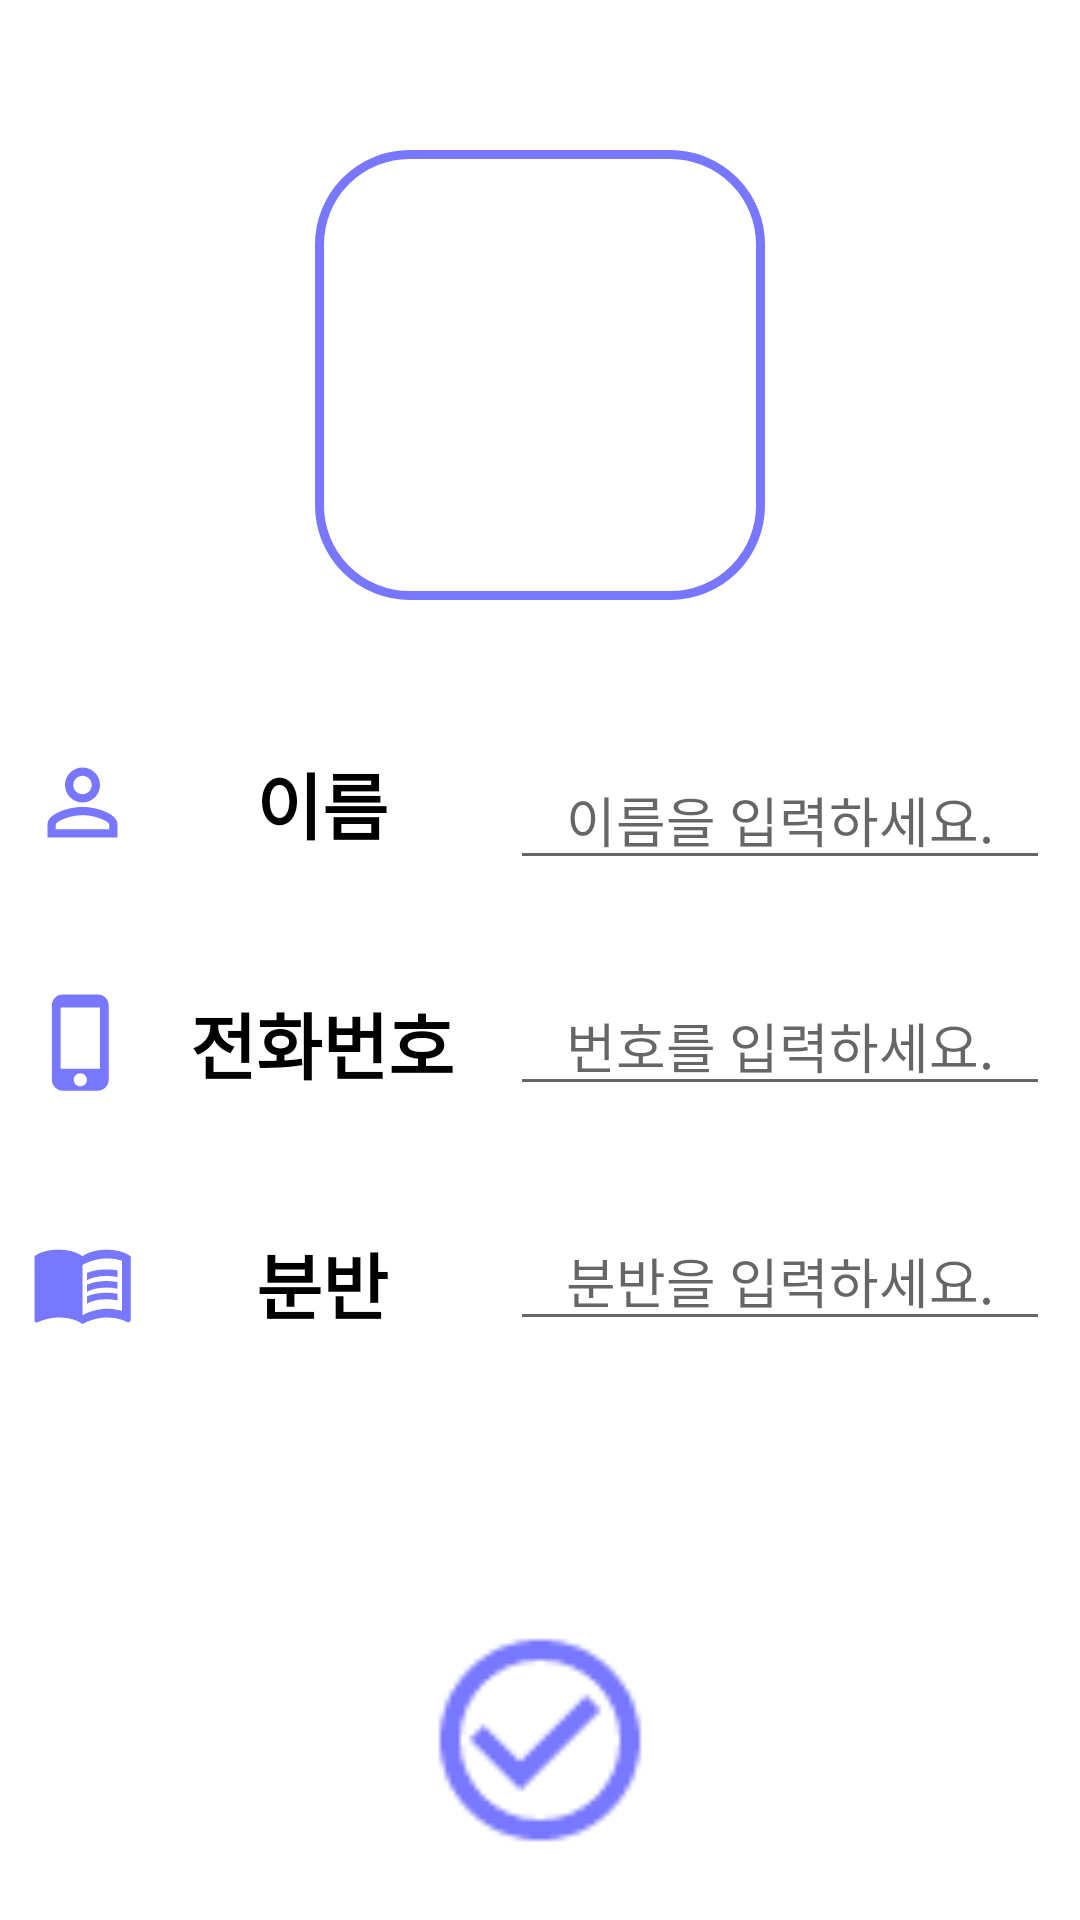

Icon click points for this 1080*1920 phone screenshot, format [x,y]:
book: [82,1286]
person: [82,802]
phone iphone: [80,1042]
